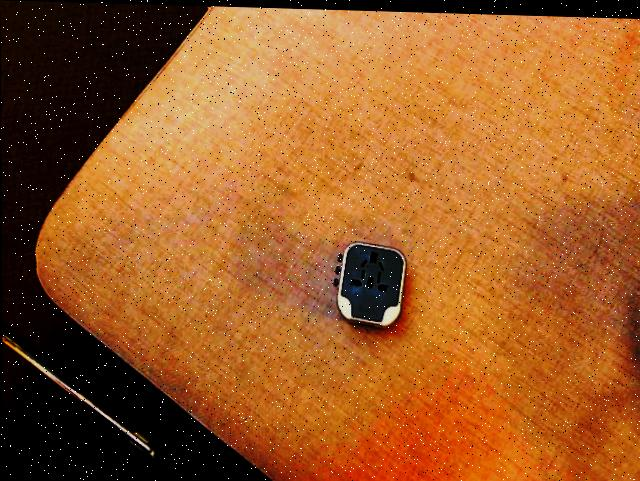adapter: (332, 238, 405, 325)
